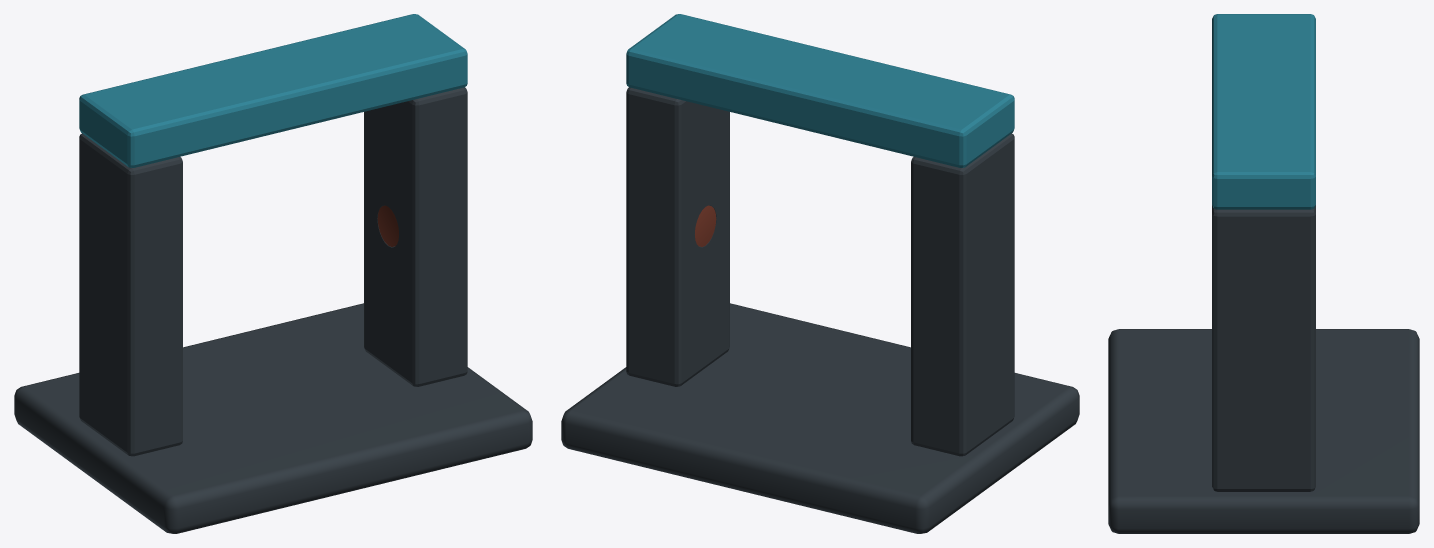
File: VLAB_photogate.fbx
3 views of the same model, side by side, from view 1: azimuth 30°, elevation 25°; view 2: azimuth 150°, elevation 25°; view 3: azimuth 270°, elevation 25° (orthographic). The views are drawn at different scales.
Parts seen in each view (by area): view 1: VLAB_photogate_Frame_VIS, VLAB_photogate_Foot_VIS, VLAB_photogate_Receiver_VIS; view 2: VLAB_photogate_Frame_VIS, VLAB_photogate_Foot_VIS, VLAB_photogate_Receiver_VIS; view 3: VLAB_photogate_Frame_VIS, VLAB_photogate_Foot_VIS.
Boxes of the visible parts, <box> form: VLAB_photogate_Frame_VIS: <box>79,14,467,456</box>; VLAB_photogate_Foot_VIS: <box>14,303,532,533</box>; VLAB_photogate_Receiver_VIS: <box>377,205,398,246</box>; VLAB_photogate_Frame_VIS: <box>626,14,1014,456</box>; VLAB_photogate_Foot_VIS: <box>561,303,1079,533</box>; VLAB_photogate_Receiver_VIS: <box>695,205,716,246</box>; VLAB_photogate_Frame_VIS: <box>1212,14,1315,491</box>; VLAB_photogate_Foot_VIS: <box>1108,329,1419,533</box>.
Bounding box in the file's own units: 0.08 × 0.076 × 0.06.
